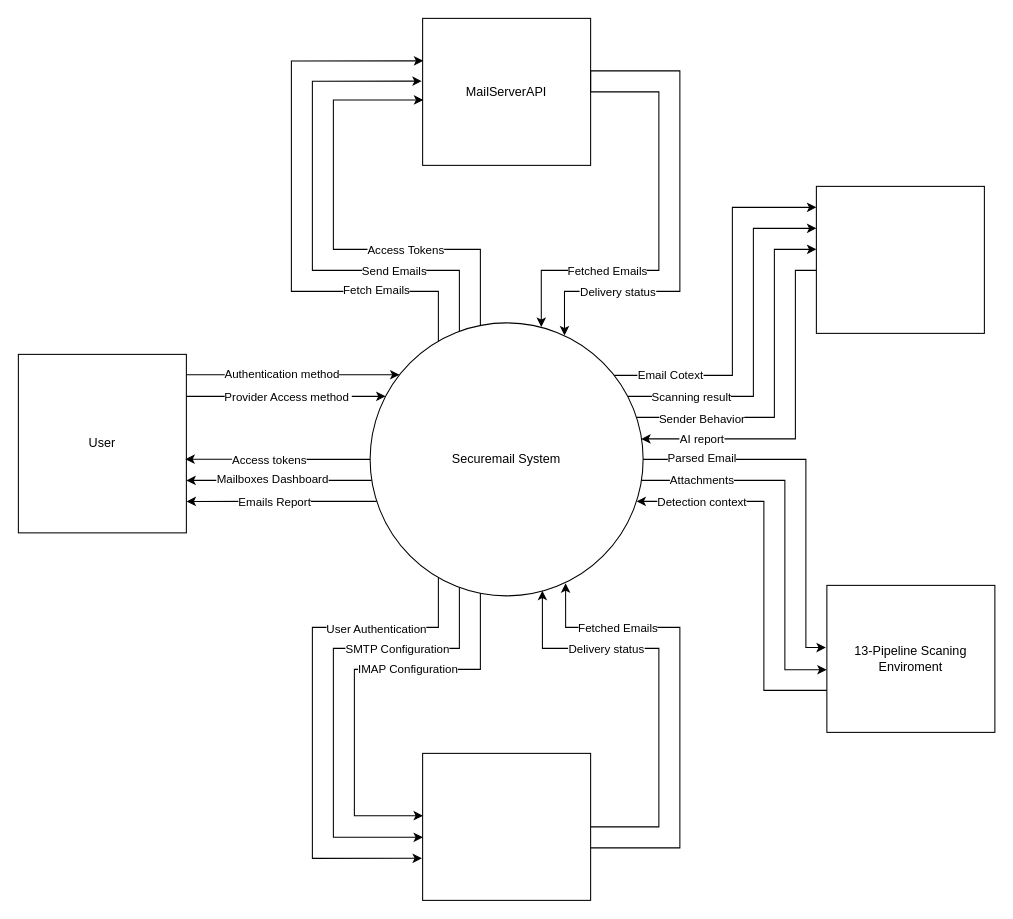
This 1013x919 diagram has some shape labels left out. Here are the shapes that lost their labels. From the top down, the centre of each, then its label:
(x=899, y=259): AiAgent
(x=506, y=826): CustomMailServer
